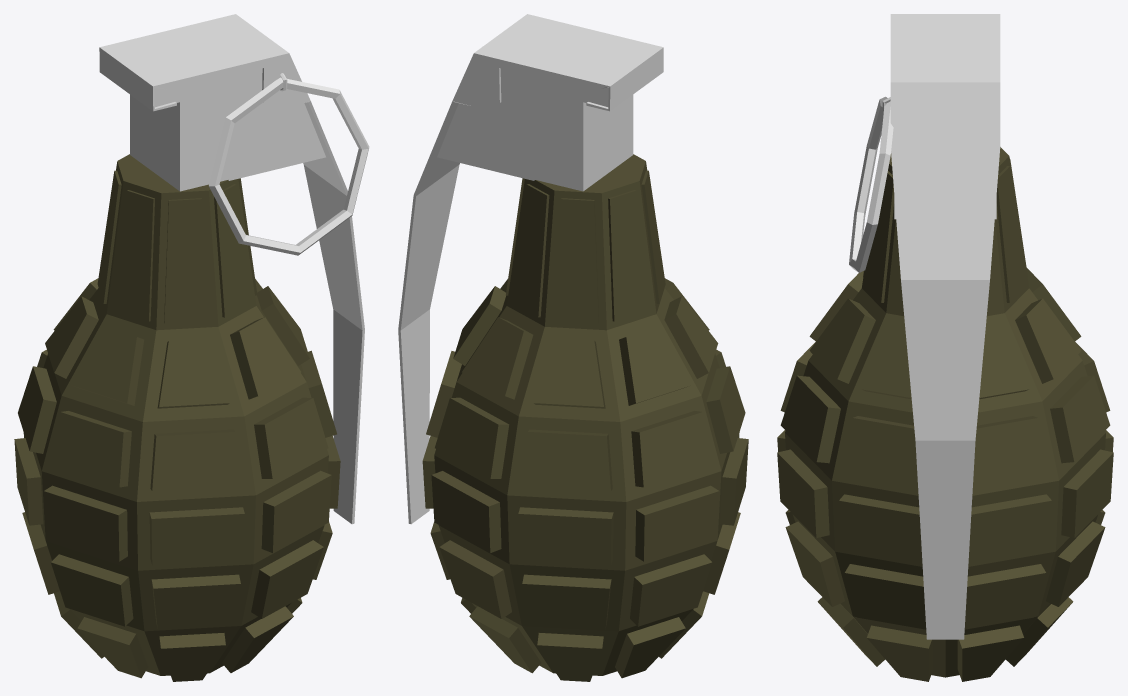
3 renders of one model, left to right at view 1: azimuth 30°, elevation 25°; view 2: azimuth 150°, elevation 25°; view 3: azimuth 270°, elevation 25°, orthographic. The views are drawn at different scales.
Visible parts, largest first — view 1: mk2; view 2: mk2; view 3: mk2.
Part boxes in pixels (box(x1,y1,x2,y2)): mk2: box(14, 14, 369, 681); mk2: box(398, 14, 748, 681); mk2: box(777, 14, 1113, 681).
Size of the model in its own units: 0.0651 by 0.1176 by 0.0588.
